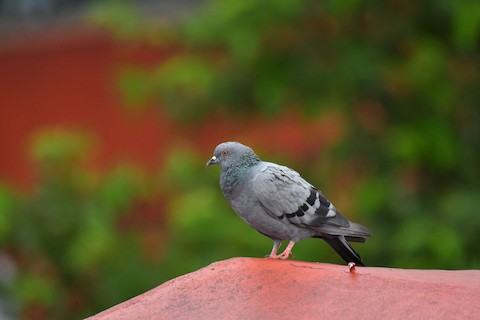pigeon: (203, 137, 376, 275)
